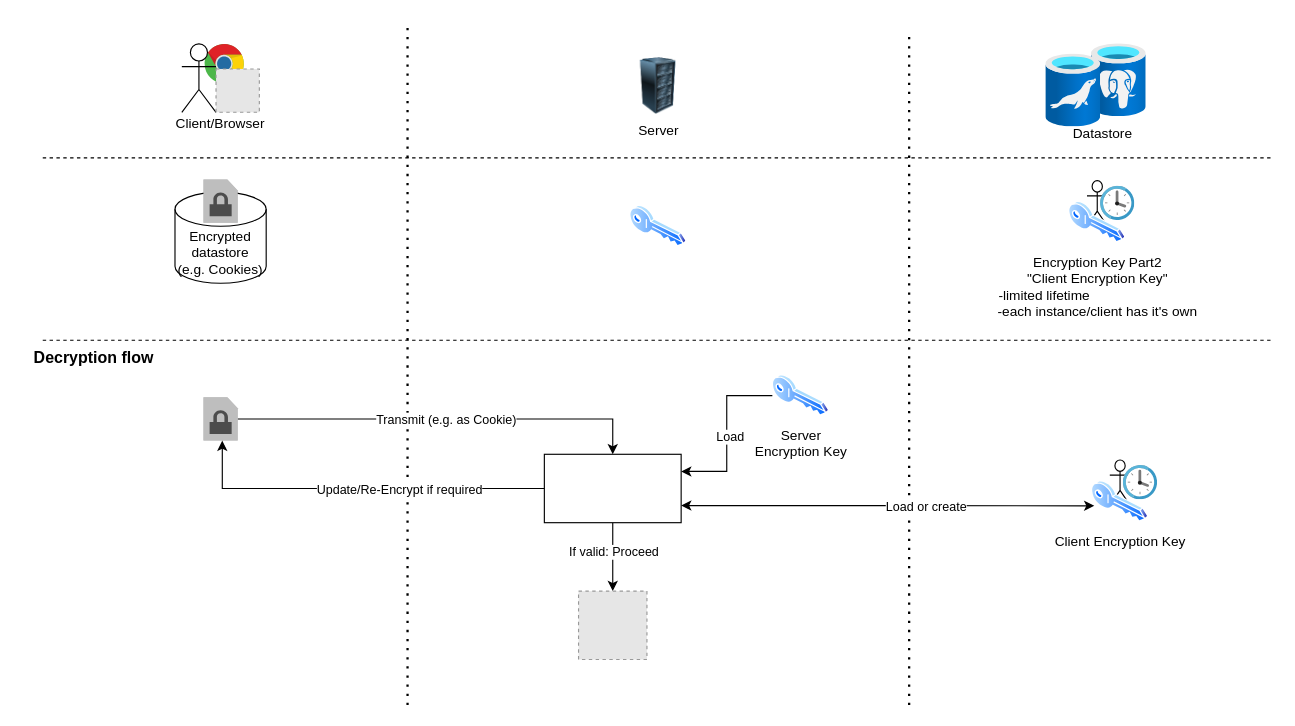
The diagram is 1295 pixels wide and 726 high, and some of its shapes have lost their labels. Grey dashed boxes stand in for pictures. The shapes that lost their labels are listed below. From the top down, each one's centre as x and y in pixels, then its label:
point 657,226: Encryption Key Part 1 "Server Encryption Key"
point 612,488: Handle decode
